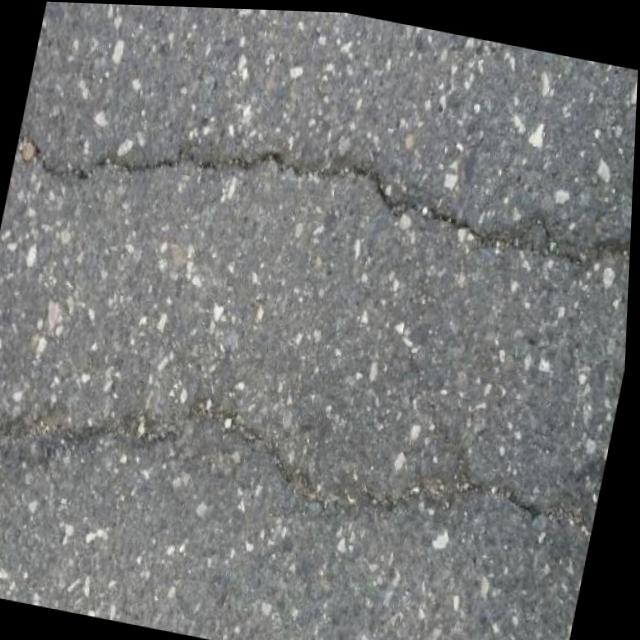Crack: (0, 329, 615, 580), (9, 68, 638, 299)
